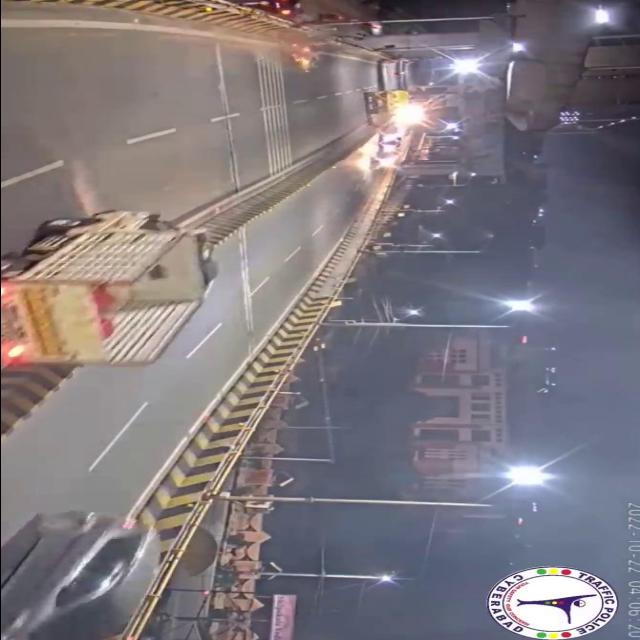accident: (285, 39, 328, 75)
